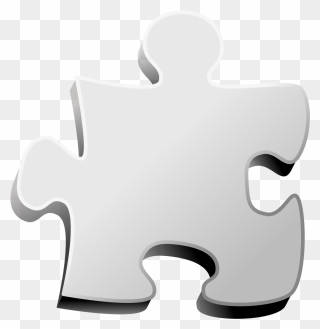puzzle piece: (12, 6, 313, 318)
